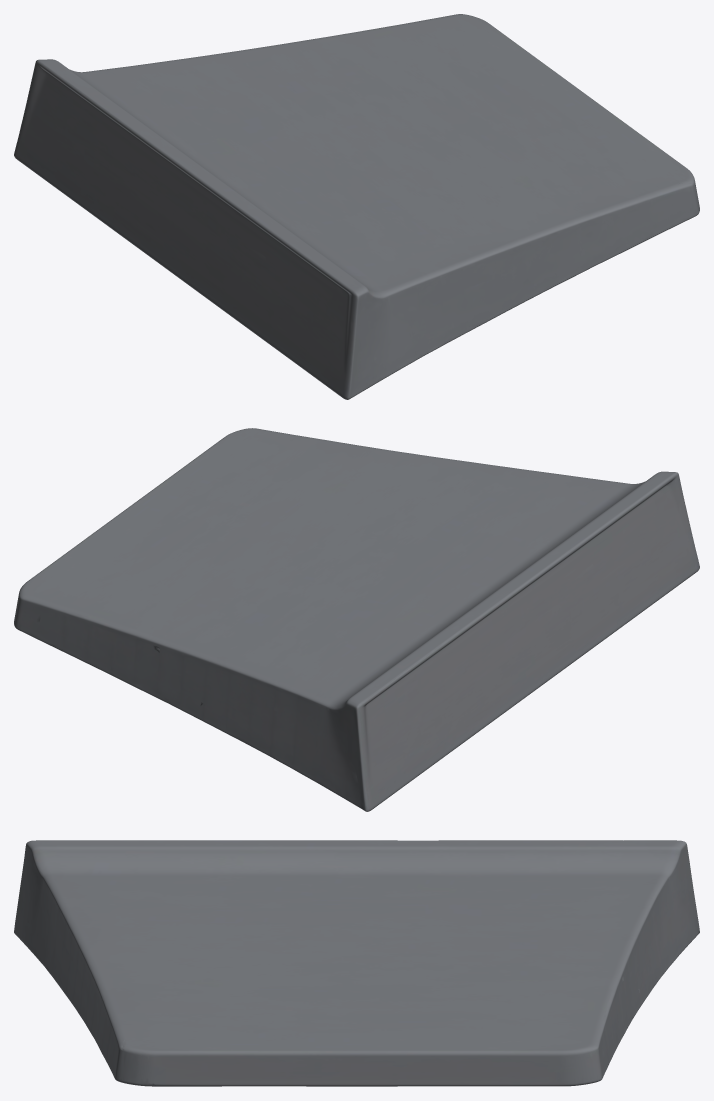
3 views of the same model, one above another, from view 1: azimuth 30°, elevation 25°; view 2: azimuth 150°, elevation 25°; view 3: azimuth 270°, elevation 25° (orthographic). The views are drawn at different scales.
Parts seen in each view (by area): view 1: node_0.004; view 2: node_0.004; view 3: node_0.004.
Part boxes in pixels (bbox=[...]): node_0.004: bbox=[14, 14, 699, 399]; node_0.004: bbox=[14, 428, 699, 811]; node_0.004: bbox=[14, 840, 699, 1086].
Bounding box in the file's own units: 0.3 × 0.069 × 0.42.
Materials: 1 (1 with a texture image).
